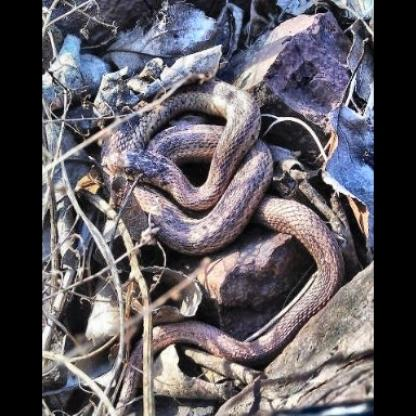Snake: (83, 73, 342, 303)
